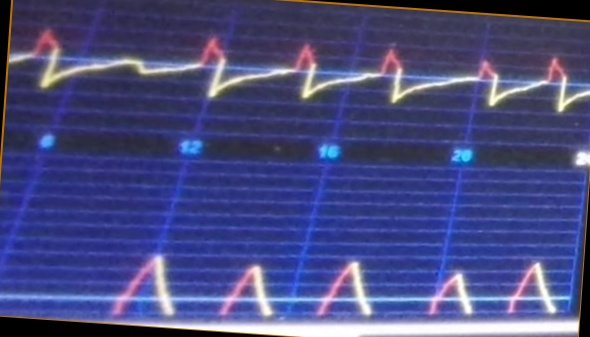Ineffective_effort Flow: (11, 24, 590, 117)
Ineffective_effort Volume: (104, 235, 557, 318)
